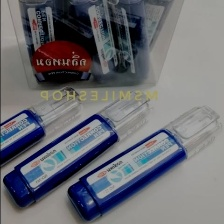correction_fluid: (0, 87, 161, 211), (63, 99, 224, 223), (0, 82, 86, 183), (15, 0, 71, 86), (66, 0, 120, 85), (106, 0, 153, 83)
